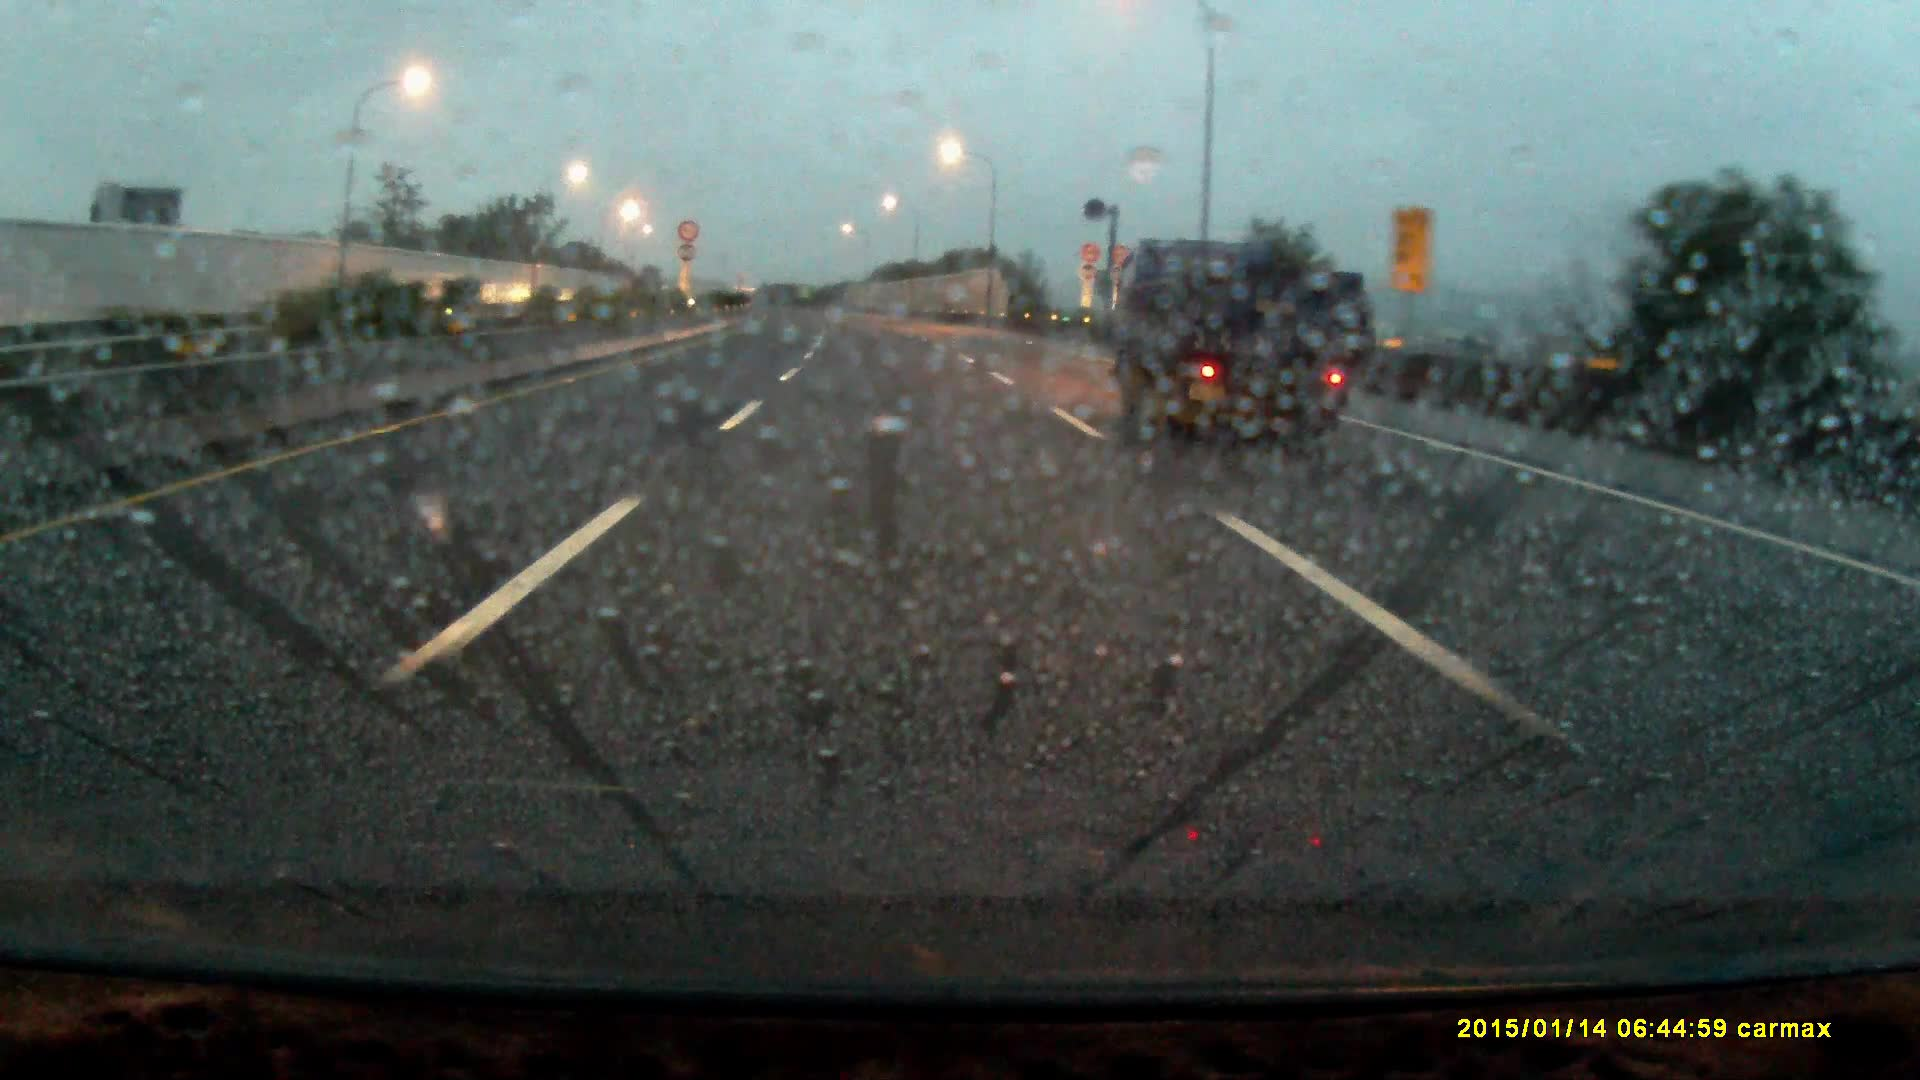vehicle: (1112, 235, 1373, 433)
